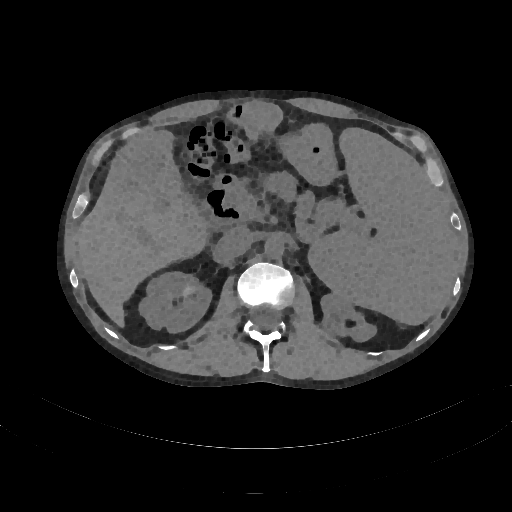Lesion: (176, 283, 198, 301)
